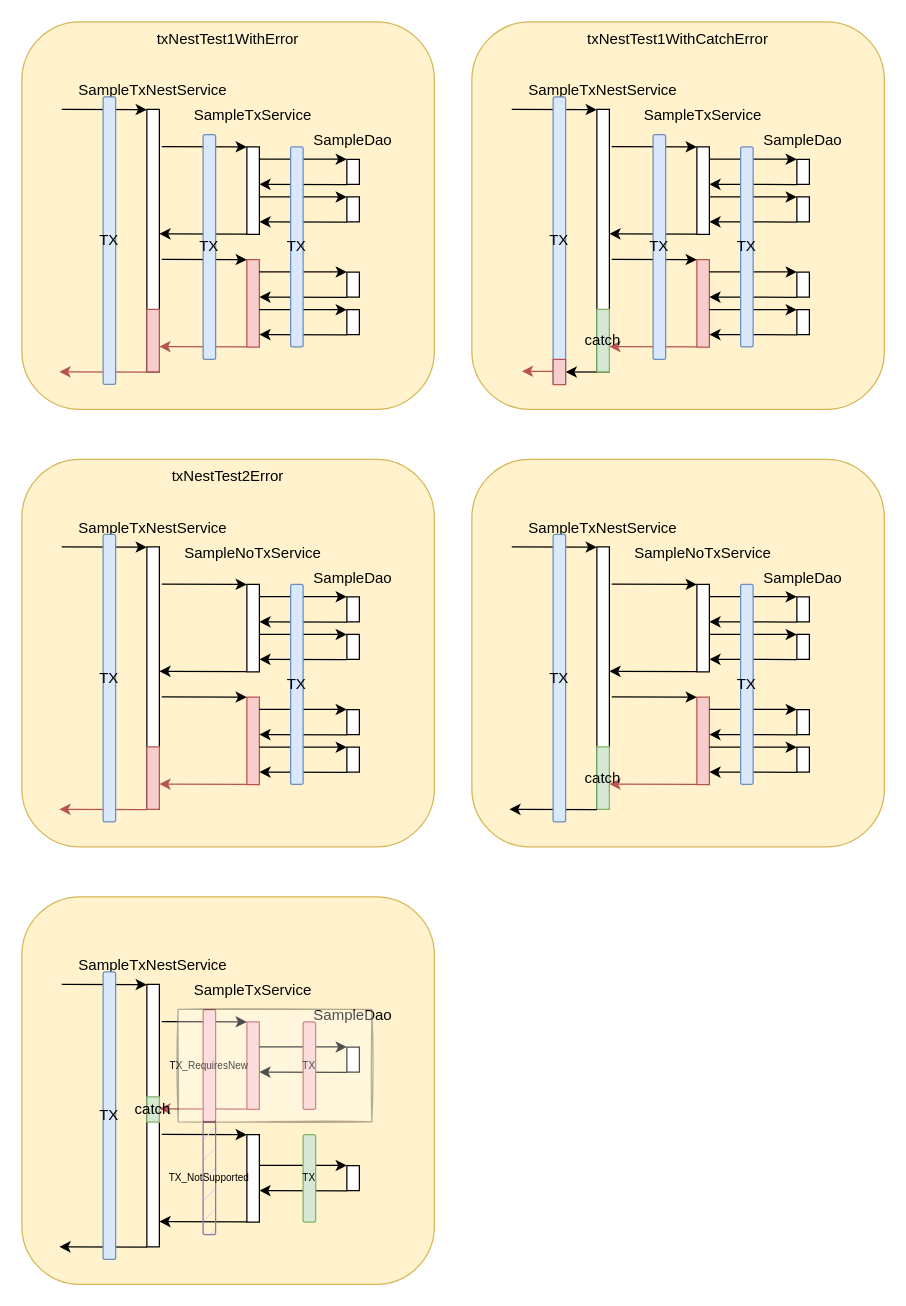
This 906x1306 diagram has some shape labels left out. The box of each missing label's shape, as (x1, y1, x2, y2) in pixels:
txNestTest2CatchError: (471, 458, 884, 847)
txNestTest3Error: (21, 896, 434, 1284)
